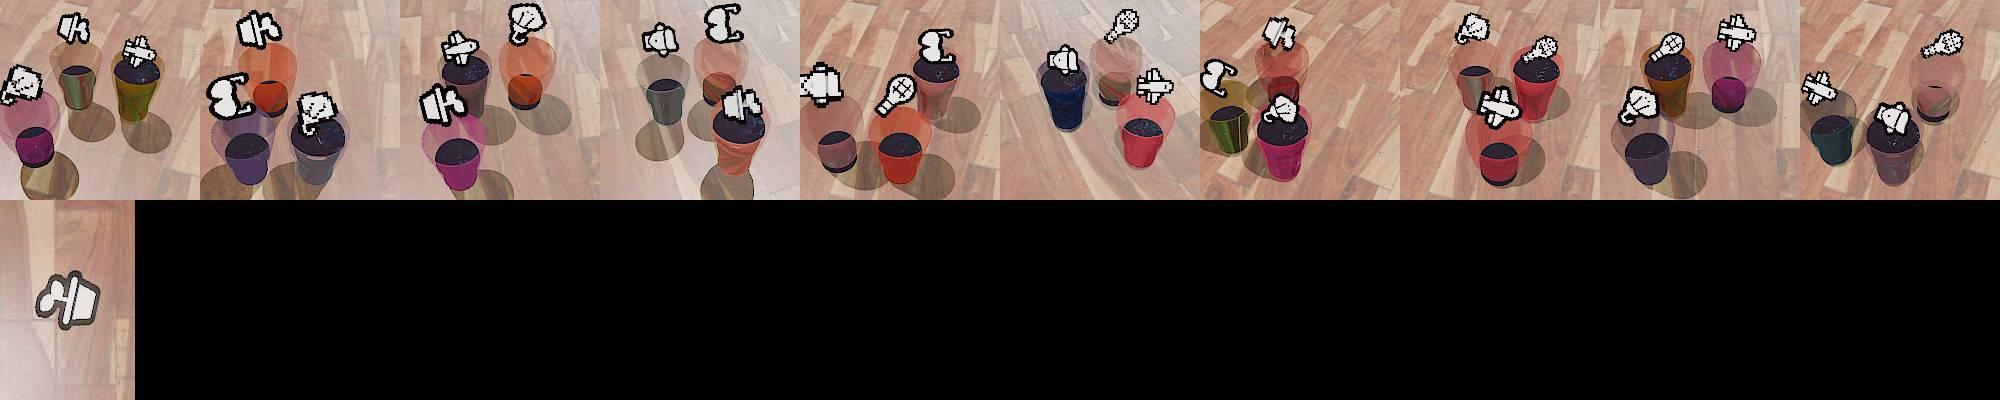icon: (34, 270, 102, 330), (417, 82, 469, 126), (295, 89, 342, 138), (207, 73, 254, 121), (798, 60, 843, 108), (1477, 84, 1522, 129), (874, 73, 917, 117), (235, 10, 282, 51), (0, 64, 45, 104), (719, 85, 764, 125), (508, 1, 547, 46), (1617, 85, 1659, 126), (704, 1, 744, 45), (1135, 66, 1176, 106), (439, 29, 481, 68), (1716, 14, 1756, 52), (917, 27, 957, 65), (1200, 57, 1237, 98), (640, 20, 681, 56), (1801, 70, 1839, 106), (1920, 29, 1964, 60), (1875, 99, 1912, 135), (1261, 15, 1297, 52), (1103, 8, 1139, 45), (1454, 11, 1491, 47), (120, 33, 158, 68), (1264, 92, 1301, 126), (57, 11, 92, 46), (1047, 45, 1082, 78), (1522, 34, 1560, 64), (1658, 33, 1684, 57)
